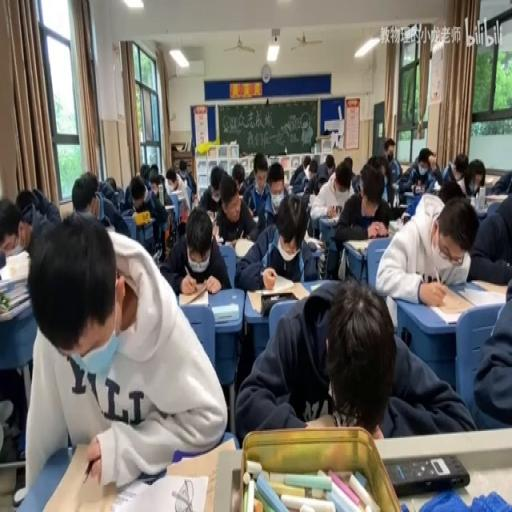calculator: (112, 471, 207, 512), (249, 282, 307, 312), (427, 302, 468, 324), (212, 302, 238, 324), (178, 287, 207, 306), (233, 236, 254, 258), (345, 239, 371, 253), (304, 235, 326, 250), (3, 243, 23, 259), (308, 206, 327, 222), (474, 202, 490, 219), (387, 219, 402, 235), (323, 215, 342, 226), (485, 193, 507, 202), (396, 202, 408, 215), (400, 163, 413, 175), (206, 212, 217, 225), (403, 189, 416, 199), (310, 282, 323, 290), (212, 224, 218, 240), (250, 214, 258, 224), (431, 181, 440, 189), (392, 181, 400, 189), (164, 204, 174, 210)
paper: (234, 276, 469, 442), (0, 194, 58, 446), (159, 203, 230, 296), (469, 276, 511, 429), (334, 160, 395, 248), (467, 186, 512, 289), (69, 173, 130, 242), (212, 170, 258, 244), (145, 165, 176, 236), (398, 145, 440, 196), (440, 151, 469, 193), (198, 165, 222, 212), (382, 137, 402, 192), (314, 151, 339, 193), (29, 206, 54, 240), (176, 157, 196, 199), (121, 171, 141, 213), (463, 158, 485, 196), (289, 156, 312, 192), (485, 168, 512, 196), (16, 189, 35, 223), (266, 164, 284, 189), (252, 155, 267, 181), (366, 154, 382, 174), (84, 170, 97, 190), (242, 166, 254, 186), (166, 170, 178, 190), (113, 186, 125, 206), (31, 186, 43, 205), (350, 172, 360, 194), (105, 175, 117, 192), (139, 164, 149, 180), (308, 162, 317, 176)
person: (386, 452, 470, 494)
